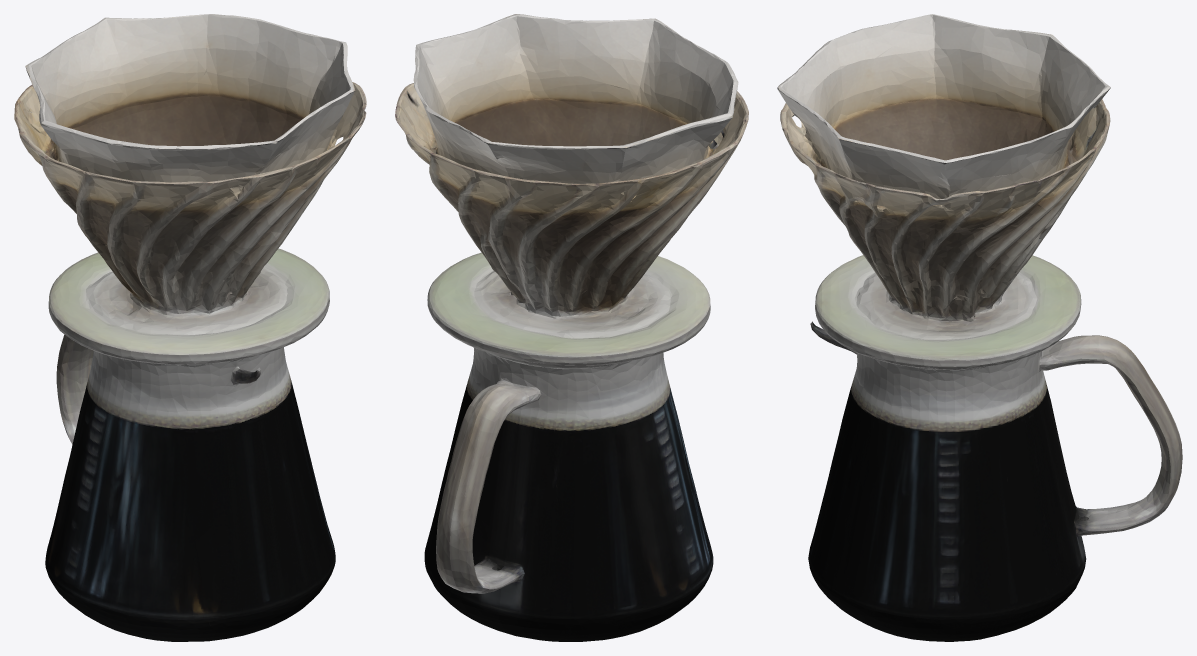
The picture shows the model from 3 angles, left to right: view 1: azimuth 30°, elevation 25°; view 2: azimuth 150°, elevation 25°; view 3: azimuth 270°, elevation 25°; orthographic projection. The views are drawn at different scales.
Parts seen in each view (by area): view 1: world; view 2: world; view 3: world.
Part boxes in pixels (box(x1,y1,x2,y2)): world: box(14, 14, 366, 641); world: box(395, 14, 748, 641); world: box(777, 14, 1182, 641).
Size of the model in its own units: 0.6216 by 0.9966 by 0.7149.
Materials: 1 (1 with a texture image).
